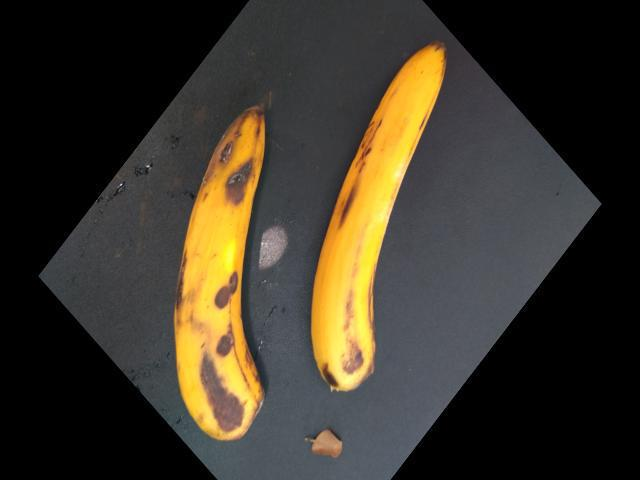overripe: (294, 22, 460, 410), (162, 72, 296, 450)
